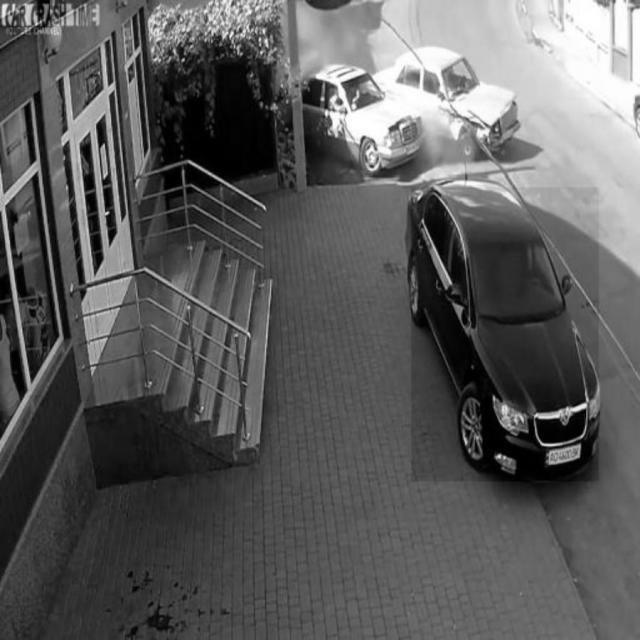accident: (295, 40, 539, 177)
vehicle: (412, 187, 599, 481)
